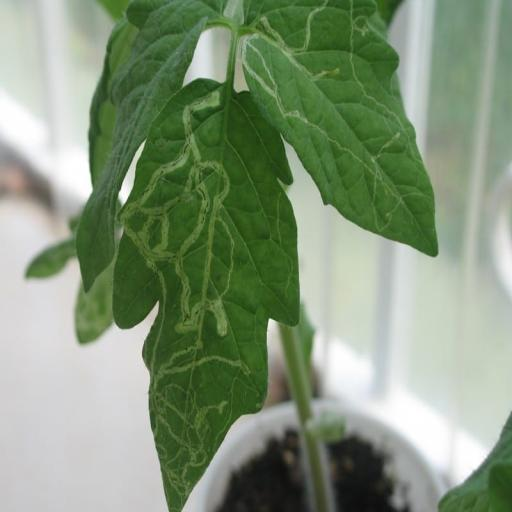Healthy: (78, 0, 211, 293)
Leaf_Miner: (112, 78, 302, 512), (241, 0, 441, 256)
